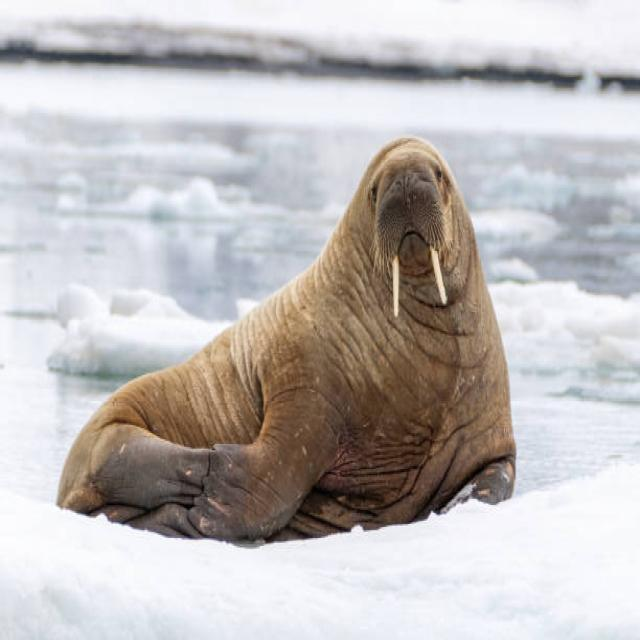walrus: (55, 103, 528, 569)
